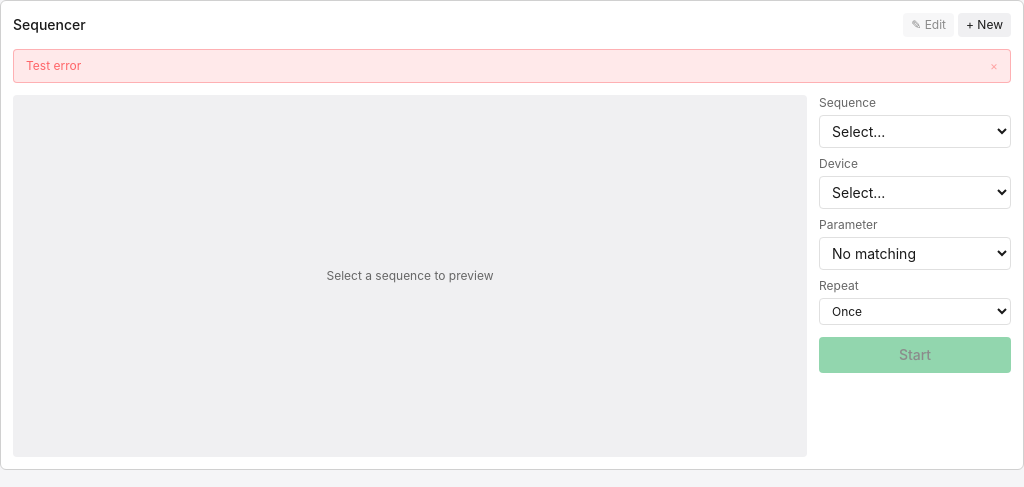
Test: SequencePanel Integration › Error Handling › should clear error when dismiss is clicked
The image size is (1024, 487).
Expected: the heading "Sequencer" is shown, [13,15,86,35]
Expected: the text "Test error" is shown, [26,58,81,74]
Click dismiss button
Click the button "×". click: (994, 66)
box: [990,58,998,74]
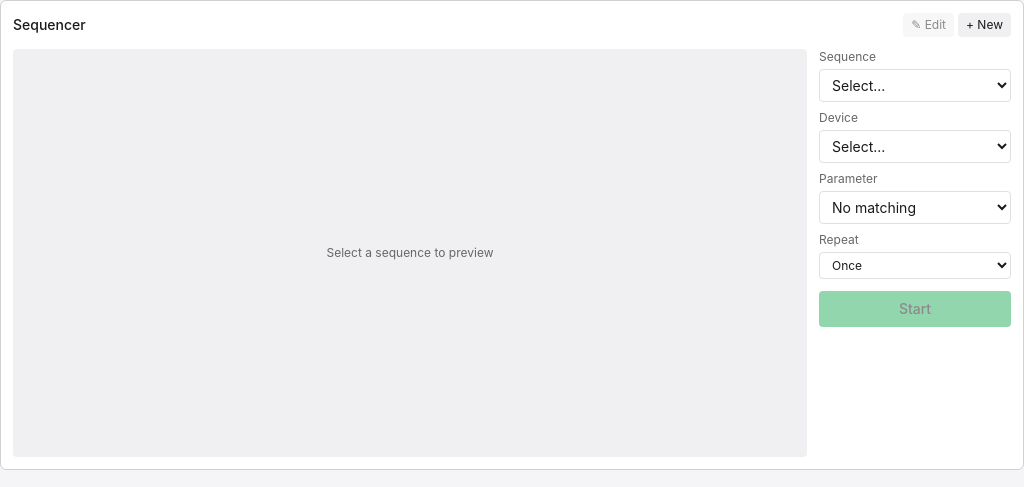
Now the text "Test error" is gone
